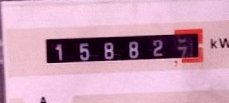1: (52, 41, 64, 60)
2: (151, 37, 163, 56)
5: (77, 41, 89, 61)
7: (176, 44, 187, 58)
8: (102, 39, 114, 60), (127, 39, 139, 60)
screen: (37, 22, 212, 71)
